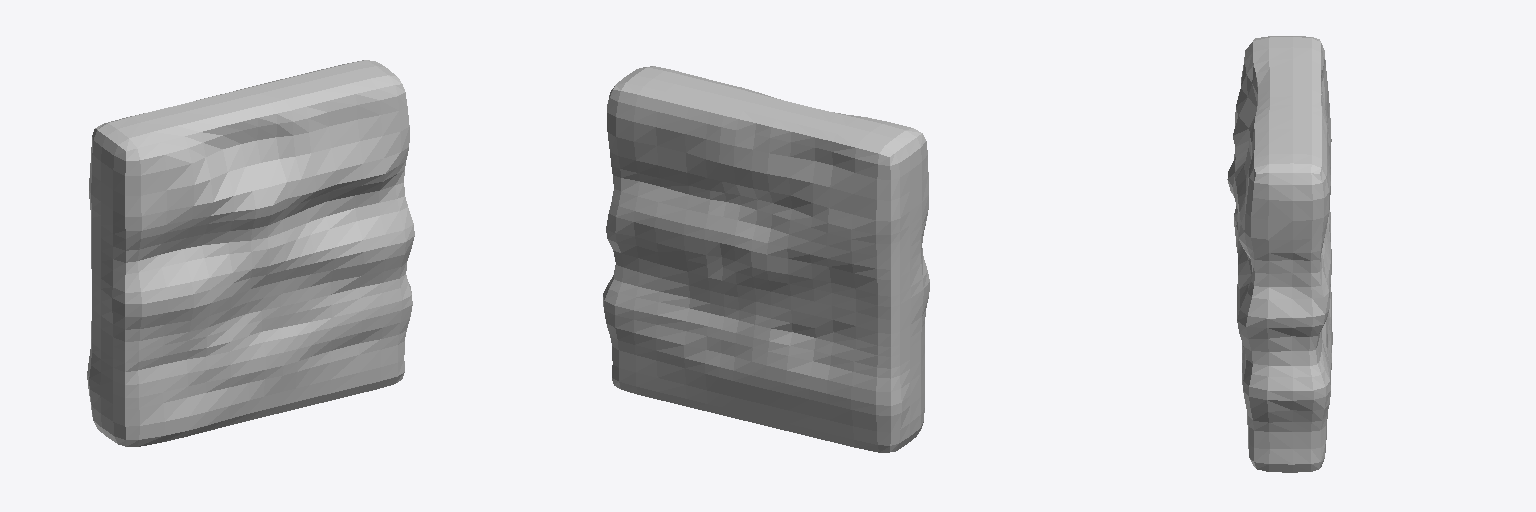
The model's file is PM3D_rock001_008.OBJ.
The picture shows the model from 3 angles: view 1: azimuth 30°, elevation 25°; view 2: azimuth 150°, elevation 25°; view 3: azimuth 270°, elevation 25°; orthographic projection.
Parts seen in each view (by area): view 1: Group38156; view 2: Group38156; view 3: Group38156.
Boxes of the visible parts, x1=… form: Group38156: x1=87, y1=60, x2=414, y2=446; Group38156: x1=603, y1=66, x2=929, y2=452; Group38156: x1=1227, y1=36, x2=1332, y2=472.
Bounding box in the file's own units: 6013 × 5946 × 1822.